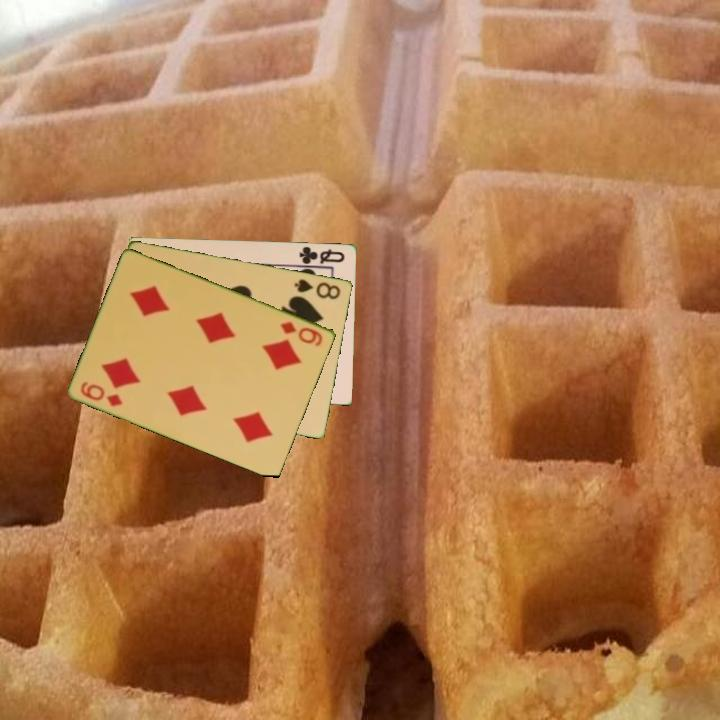6d: (277, 318, 326, 349), (77, 378, 126, 409)
8s: (291, 275, 344, 302)
Qc: (294, 243, 348, 269)
